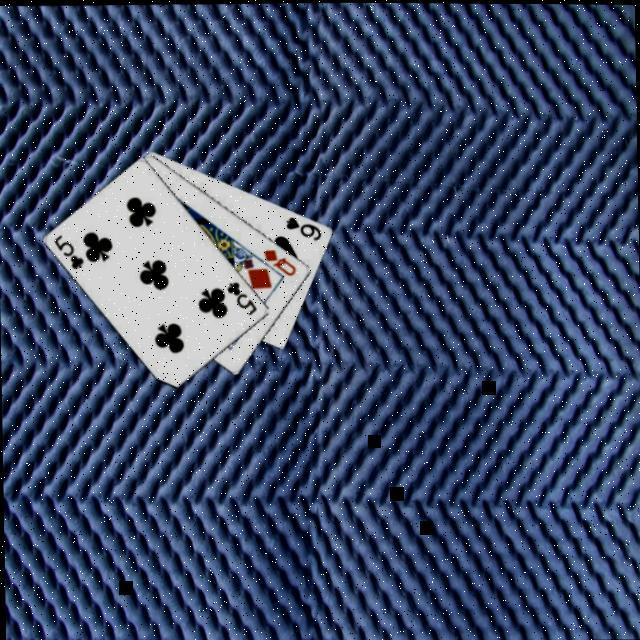5C: (225, 279, 262, 320), (53, 233, 88, 274)
6S: (284, 213, 326, 244)
QD: (262, 246, 301, 280)
